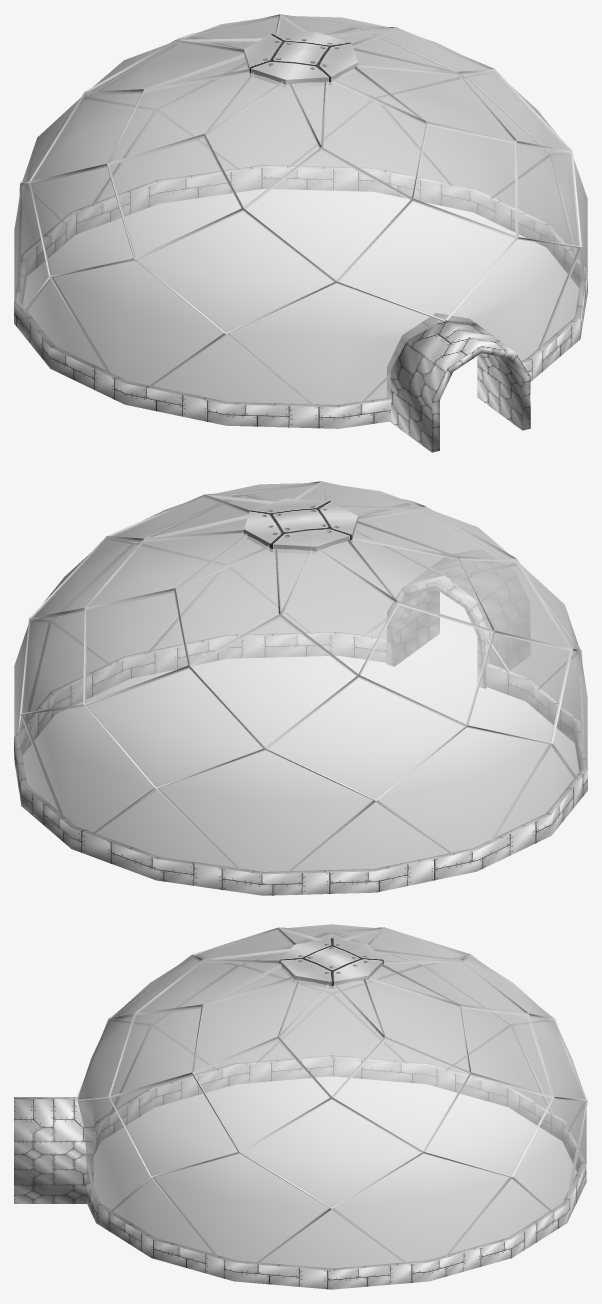
The model's file is Dome01.glb.
3 views of the same model, one above another, from view 1: azimuth 30°, elevation 25°; view 2: azimuth 150°, elevation 25°; view 3: azimuth 270°, elevation 25° (orthographic). The views are drawn at different scales.
Parts seen in each view (by area): view 1: Domeglass, Dome; view 2: Domeglass, Dome; view 3: Domeglass, Dome.
Part boxes in pixels (x1,y1,x2,y2): Domeglass: [14, 16, 587, 407]; Dome: [14, 14, 587, 452]; Domeglass: [14, 482, 587, 874]; Dome: [14, 481, 587, 895]; Domeglass: [77, 924, 586, 1270]; Dome: [14, 927, 587, 1289].
Size of what is drawn, in the model's own units: 17.71 by 8.65 by 19.83.
2 materials, 2 textured.
